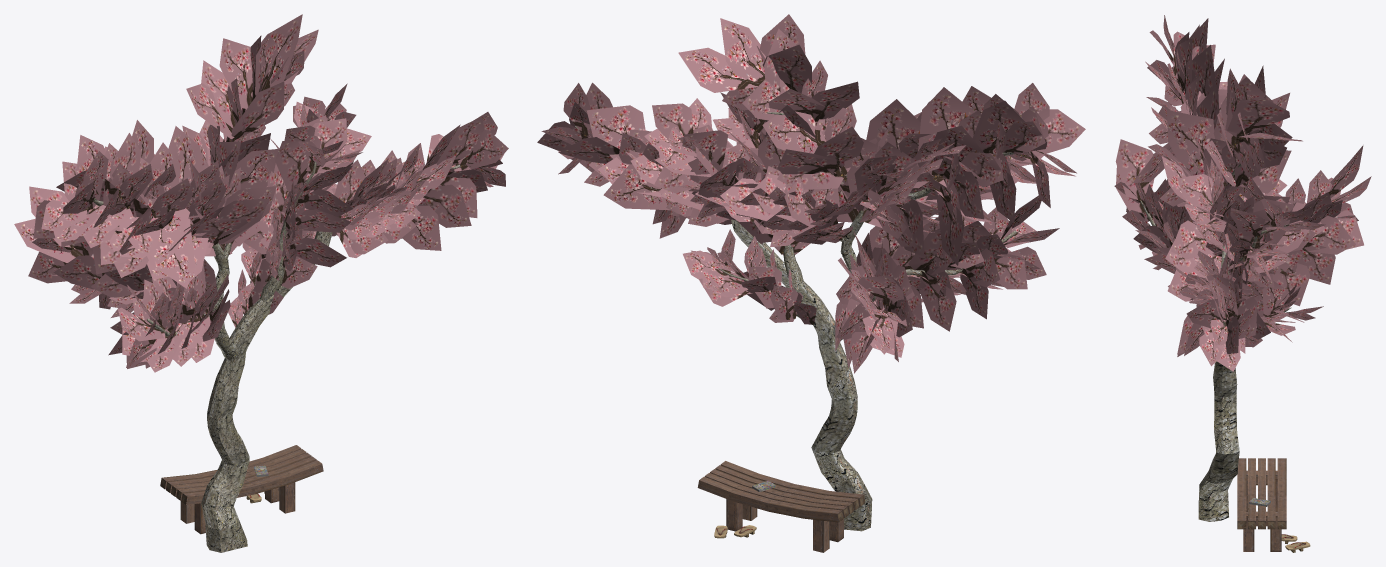
Rendered from sakura_tree.glb.
3 renders of one model, left to right at view 1: azimuth 30°, elevation 25°; view 2: azimuth 150°, elevation 25°; view 3: azimuth 270°, elevation 25°, orthographic. The views are drawn at different scales.
Visible parts, largest first — view 1: Loft002, Box002, Plane525, Plane531, Plane207, Plane336, Plane522, Plane402, Plane542, Plane226, Plane115, Plane171 (+30 smaller); view 2: Loft002, Box002, Plane522, Plane527, Plane090, Plane202, Plane209, Plane534, Plane115, Plane073, Plane525, Plane539 (+34 smaller); view 3: Loft002, Box002, Plane348, Plane522, Plane022, Plane457, Plane401, Plane456, Plane395, Plane090, Plane469, Plane083 (+41 smaller).
Boxes of the visible parts, box(x1,y1,x2,y2) form: Loft002: box(93, 161, 466, 552); Box002: box(160, 445, 323, 534); Plane525: box(219, 38, 252, 108); Plane531: box(231, 81, 284, 140); Plane207: box(421, 184, 471, 227); Plane336: box(146, 218, 195, 288); Plane522: box(261, 14, 302, 90); Plane402: box(275, 141, 316, 191); Plane542: box(224, 149, 278, 189); Plane226: box(402, 205, 441, 250); Plane115: box(168, 126, 203, 224); Plane171: box(436, 116, 484, 166); Loft002: box(575, 112, 1016, 531); Box002: box(697, 461, 865, 552); Plane522: box(720, 18, 766, 83); Plane527: box(678, 47, 759, 92); Plane090: box(916, 87, 974, 175); Plane202: box(586, 105, 645, 165); Plane209: box(603, 164, 670, 210); Plane534: box(762, 111, 826, 163); Plane115: box(866, 99, 920, 149); Plane073: box(972, 100, 1024, 153); Plane525: box(762, 44, 811, 93); Plane539: box(814, 126, 863, 176); Loft002: box(1140, 163, 1291, 521); Box002: box(1237, 458, 1286, 551); Plane348: box(1167, 110, 1214, 176); Plane522: box(1227, 96, 1289, 134); Plane022: box(1115, 139, 1153, 200); Plane457: box(1308, 215, 1355, 254); Plane401: box(1171, 220, 1214, 259); Plane456: box(1300, 242, 1335, 284); Plane395: box(1177, 174, 1216, 215); Plane090: box(1192, 45, 1215, 96); Plane469: box(1278, 260, 1310, 306); Plane083: box(1175, 38, 1192, 102).
Bounding box in the file's own units: 482 × 457 × 228.
4 materials, 4 textured.
